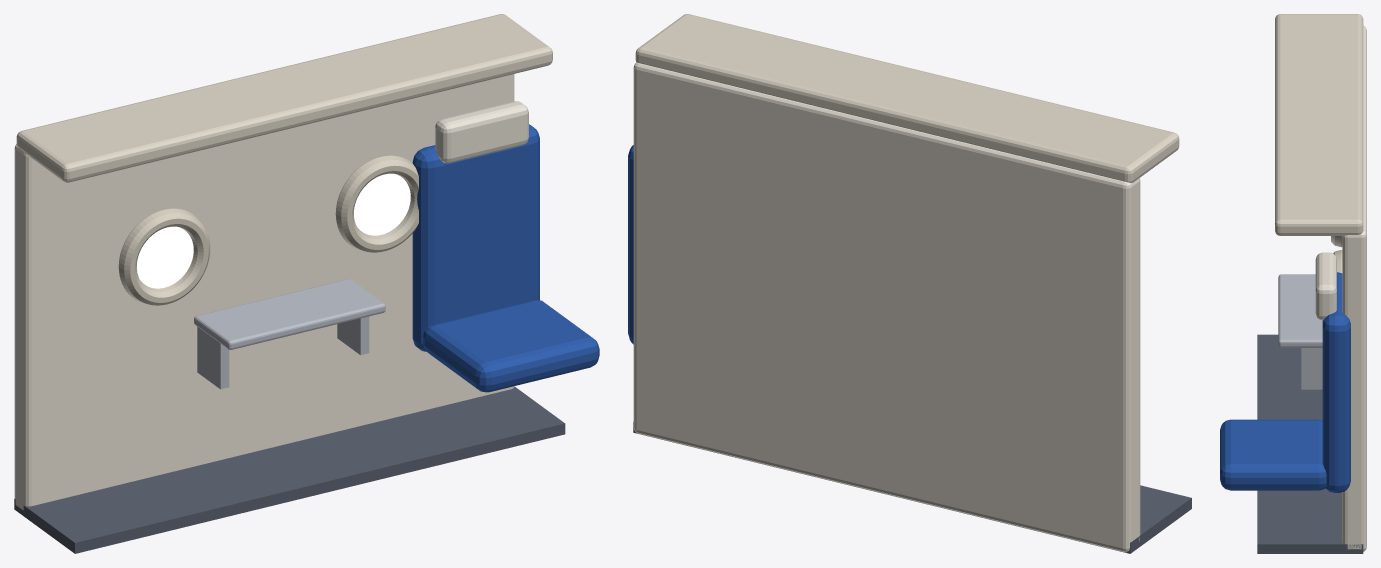
Rendered from cabina_avion.glb.
The picture shows the model from 3 angles, left to right: view 1: azimuth 30°, elevation 25°; view 2: azimuth 150°, elevation 25°; view 3: azimuth 270°, elevation 25°; orthographic projection. The views are drawn at different scales.
Visible parts, largest first — view 1: Cube, Cube.001, Cube.002, Cube.007, Cube.006, Cube.003, Torus.017, Cube.008, Torus.018, cielo_1, cielo_2, Cube.004 (+1 smaller); view 2: Cube, Cube.001, Cube.002, Cube.007; view 3: Cube.001, Cube.002, Cube.006, Cube, Cube.007, Cube.003, Cube.008, Cube.005.
Boxes of the visible parts, bbox=[...] form: Cube: bbox=[14, 74, 514, 510]; Cube.001: bbox=[16, 14, 552, 182]; Cube.002: bbox=[14, 386, 565, 553]; Cube.007: bbox=[412, 124, 539, 351]; Cube.006: bbox=[423, 300, 599, 392]; Cube.003: bbox=[194, 279, 385, 349]; Torus.017: bbox=[118, 208, 210, 305]; Cube.008: bbox=[435, 101, 528, 163]; Torus.018: bbox=[335, 155, 418, 252]; cielo_1: bbox=[137, 226, 193, 288]; cielo_2: bbox=[354, 173, 410, 235]; Cube.004: bbox=[197, 327, 229, 389]; Cube: bbox=[633, 62, 1140, 552]; Cube.001: bbox=[635, 14, 1179, 183]; Cube.002: bbox=[633, 422, 1191, 553]; Cube.007: bbox=[628, 145, 633, 344]; Cube.001: bbox=[1275, 14, 1363, 235]; Cube.002: bbox=[1257, 334, 1363, 553]; Cube.006: bbox=[1220, 419, 1326, 490]; Cube: bbox=[1342, 25, 1366, 551]; Cube.007: bbox=[1322, 272, 1350, 492]; Cube.003: bbox=[1278, 274, 1322, 347]; Cube.008: bbox=[1315, 252, 1336, 320]; Cube.005: bbox=[1301, 348, 1322, 389].
Bounding box in the file's own units: 2.9 × 2.07 × 0.83.
